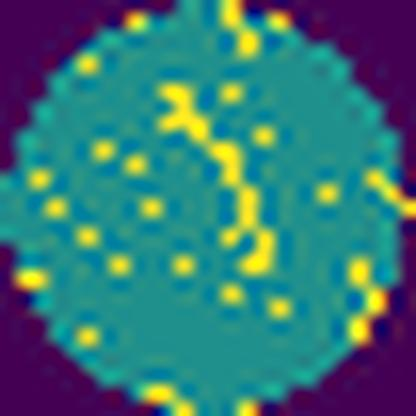Scratch: (152, 77, 279, 281)
